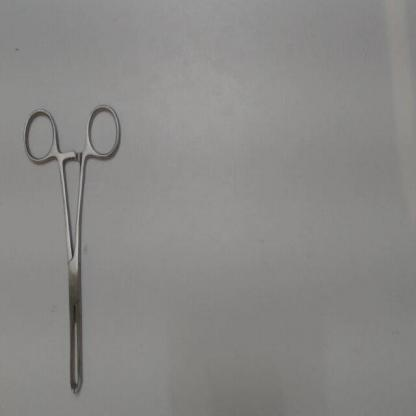Allis Tissue Forceps: (16, 101, 132, 409)
